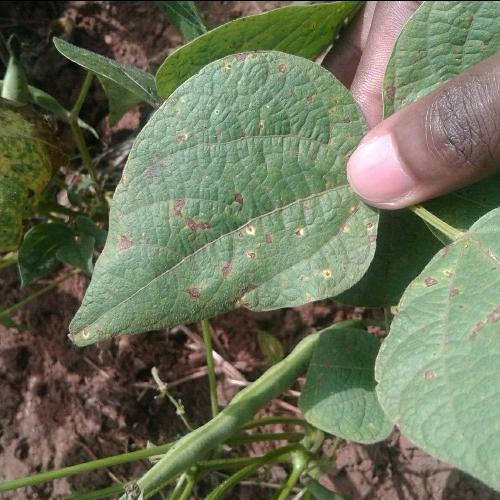hawar: (230, 212, 365, 301)
